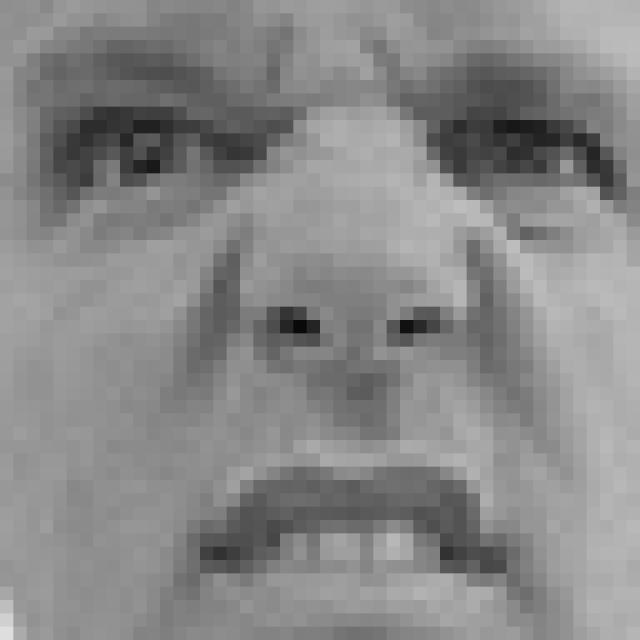disgust: (41, 19, 640, 640)
